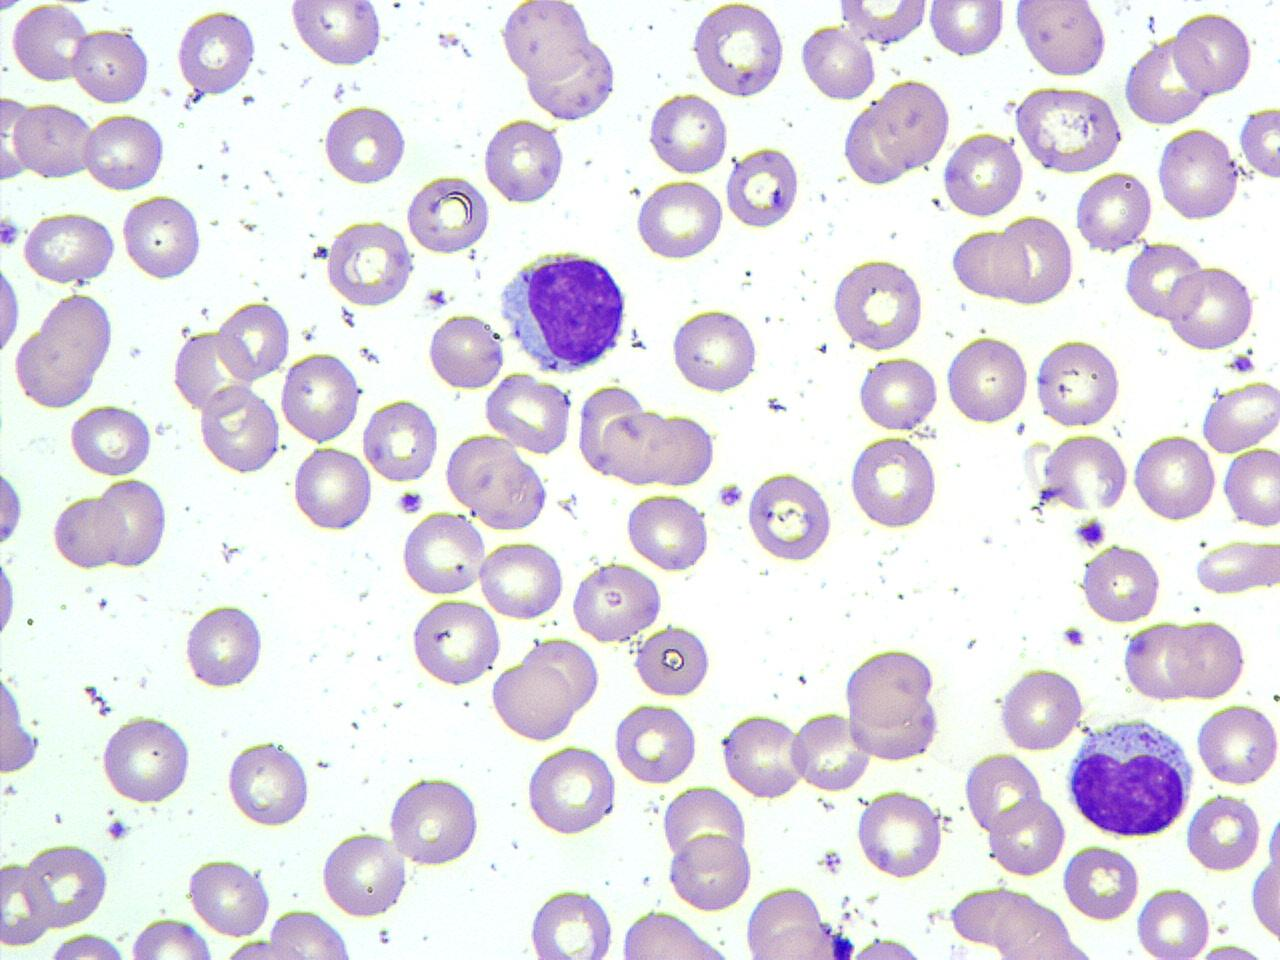Platelets: (1072, 516, 1108, 548), (716, 480, 744, 510), (396, 488, 425, 516), (0, 215, 21, 252), (104, 817, 132, 843), (1227, 351, 1255, 374), (1061, 624, 1087, 648), (822, 847, 845, 874), (1035, 484, 1061, 507), (422, 287, 449, 309), (435, 33, 463, 50), (331, 82, 347, 102), (313, 242, 331, 259), (1145, 13, 1157, 35), (240, 94, 257, 106), (1211, 382, 1223, 398)
RBC: (22, 288, 115, 406), (1014, 85, 1124, 176), (689, 2, 787, 99), (830, 255, 926, 354), (385, 772, 480, 870), (847, 433, 940, 531), (408, 596, 503, 690), (526, 742, 618, 837), (1032, 335, 1122, 432), (745, 468, 833, 566), (99, 713, 192, 805), (1166, 261, 1258, 353), (854, 786, 943, 881), (1155, 124, 1239, 222), (660, 781, 750, 872), (996, 664, 1086, 755), (944, 333, 1031, 427), (318, 828, 408, 918), (224, 738, 312, 830), (844, 681, 940, 764), (992, 211, 1074, 308), (324, 219, 413, 308), (720, 710, 808, 800), (844, 644, 938, 728), (279, 350, 363, 444), (568, 560, 662, 644), (23, 840, 112, 928), (670, 306, 758, 395), (118, 192, 204, 282), (198, 380, 280, 474), (612, 700, 700, 787), (481, 118, 567, 207), (1133, 433, 1217, 524), (498, 0, 592, 81), (400, 511, 487, 598), (320, 102, 408, 188), (1012, 1, 1109, 79), (940, 130, 1025, 219), (484, 372, 574, 456), (634, 177, 724, 261), (174, 6, 257, 97), (404, 171, 492, 256), (1170, 8, 1254, 97), (646, 89, 730, 178), (1194, 700, 1278, 789), (291, 443, 374, 533), (20, 208, 117, 285), (476, 540, 566, 622), (186, 854, 272, 939), (1044, 430, 1130, 515), (624, 489, 710, 574), (183, 602, 264, 692), (875, 77, 952, 171), (81, 110, 166, 194), (790, 708, 874, 792), (96, 476, 169, 572), (1073, 168, 1155, 253), (668, 831, 754, 912), (1165, 616, 1247, 700), (1080, 542, 1162, 626), (362, 396, 440, 484), (962, 751, 1043, 835), (492, 660, 574, 742), (11, 99, 94, 180), (70, 25, 151, 108), (1061, 840, 1141, 924), (526, 886, 616, 960), (986, 795, 1066, 878), (286, 0, 382, 69), (1123, 240, 1203, 322), (9, 2, 88, 85), (1184, 791, 1262, 874), (798, 23, 878, 103), (857, 356, 939, 434), (1122, 618, 1198, 702), (724, 146, 800, 230), (470, 448, 549, 528), (442, 430, 519, 512), (68, 403, 152, 478), (1199, 378, 1279, 456), (634, 621, 712, 701), (427, 312, 504, 393), (746, 883, 828, 959), (216, 299, 290, 383), (599, 405, 673, 488), (526, 636, 602, 716), (949, 226, 1029, 302), (617, 908, 735, 959), (1135, 883, 1213, 960), (641, 412, 717, 488), (50, 492, 120, 573), (842, 104, 910, 187), (744, 918, 864, 960), (1191, 538, 1277, 596), (1220, 445, 1280, 528), (1, 856, 53, 946), (928, 0, 1006, 60), (834, 0, 930, 46), (268, 908, 352, 960), (127, 914, 214, 958), (1238, 104, 1280, 180), (0, 92, 31, 183), (1248, 858, 1280, 945), (44, 930, 131, 960), (0, 256, 22, 362), (0, 464, 25, 556), (842, 936, 934, 960), (0, 542, 17, 651)
WBC: (498, 245, 633, 376), (1064, 715, 1198, 839), (12, 288, 118, 410), (514, 21, 623, 124), (830, 252, 928, 352), (498, 0, 593, 78)
